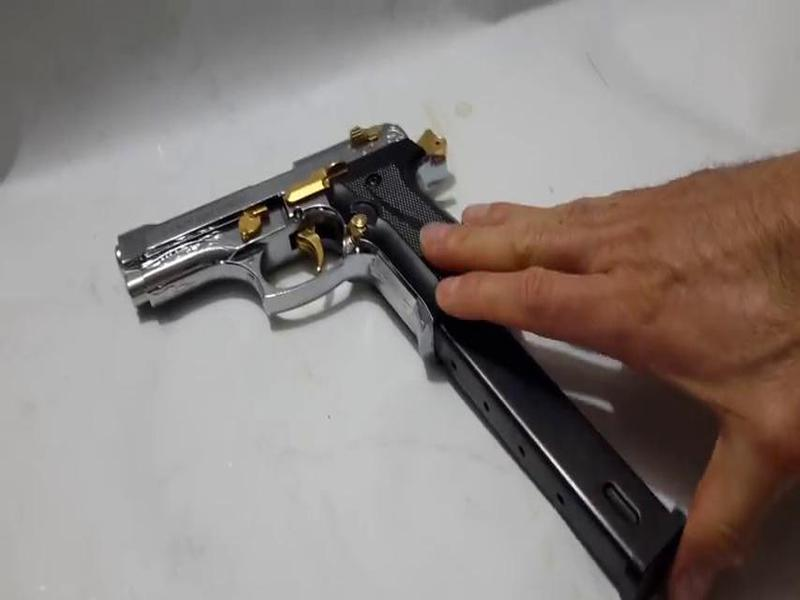Pistola: (112, 104, 498, 344)
